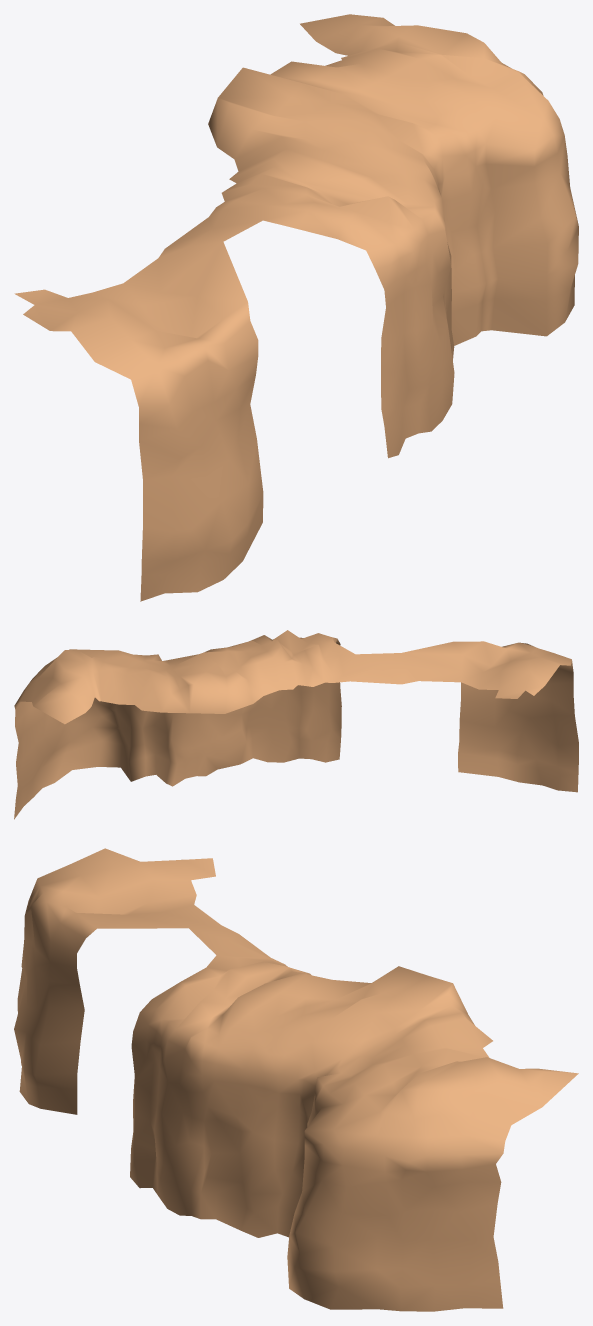
File: relief_7.low.fbx
3 views of the same model, one above another, from view 1: azimuth 30°, elevation 25°; view 2: azimuth 150°, elevation 25°; view 3: azimuth 270°, elevation 25° (orthographic). The views are drawn at different scales.
Visible parts, largest first — view 1: relief.7.low; view 2: relief.7.low; view 3: relief.7.low.
Part boxes in pixels (<box>): relief.7.low: <box>14,14,578,601</box>; relief.7.low: <box>14,630,578,819</box>; relief.7.low: <box>14,848,578,1311</box>.
Bounding box in the file's own units: 1271 × 504 × 1105.
